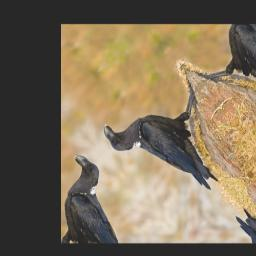Crow: (97, 58, 252, 221)
